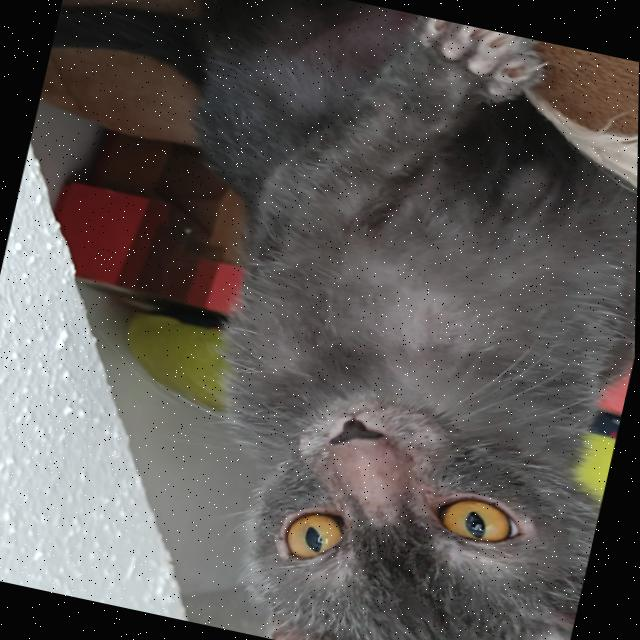Lykoi: (46, 0, 640, 640)
